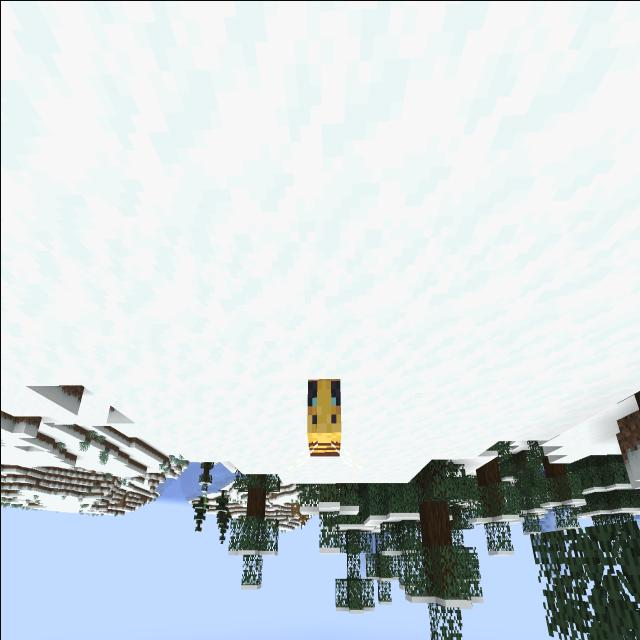bee: (283, 348, 367, 498)
